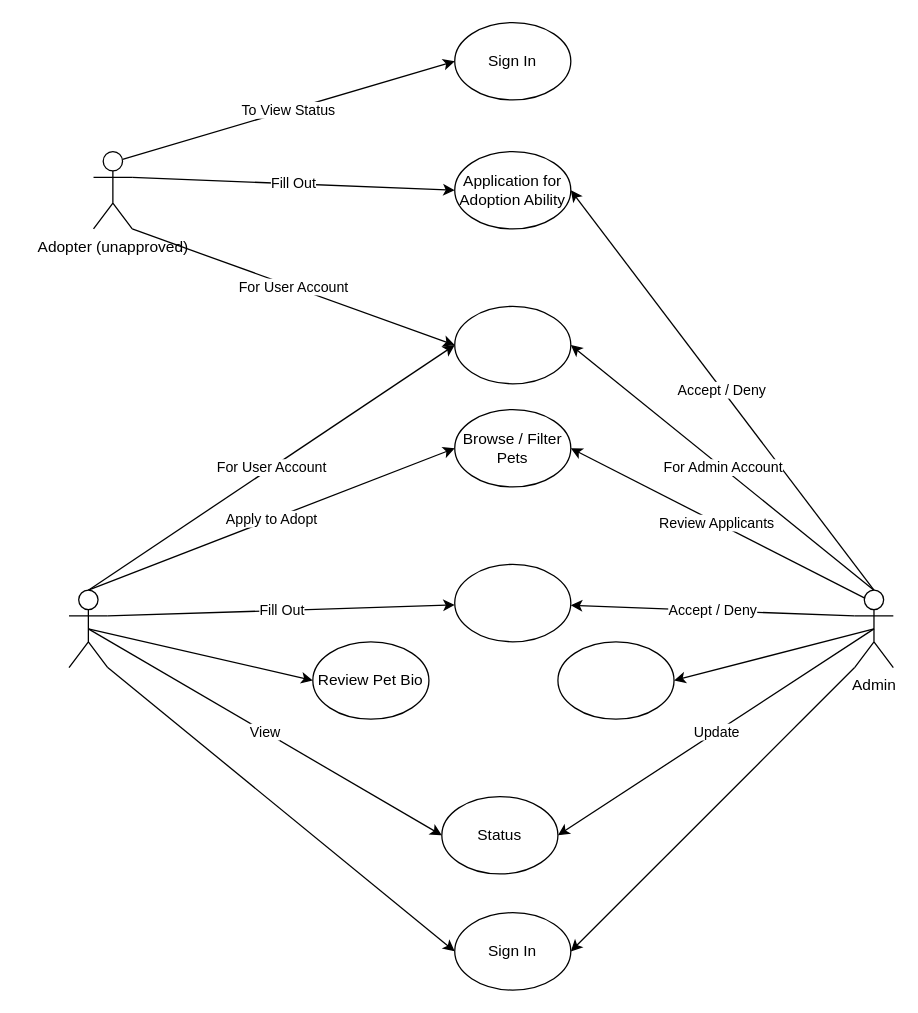
Some shapes in this 918 by 1013 pixel diagram are drawn without their labels. The shapes that lost their labels are listed below. From the top down, each one's box as (x1, y1, x2, y2) in pixels, then its label:
(453, 305, 571, 384): Sign Up
(453, 563, 571, 642): Application of Adoption
(68, 589, 108, 668): Adotper (approved)
(557, 640, 674, 719): Add Pet
